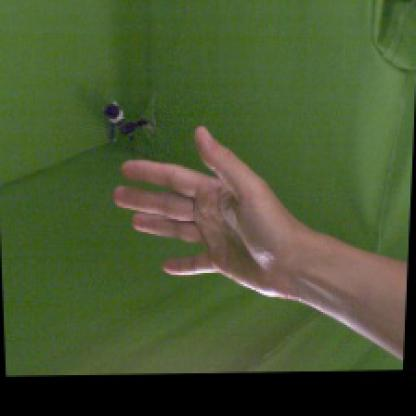Hand: (114, 126, 310, 300)
